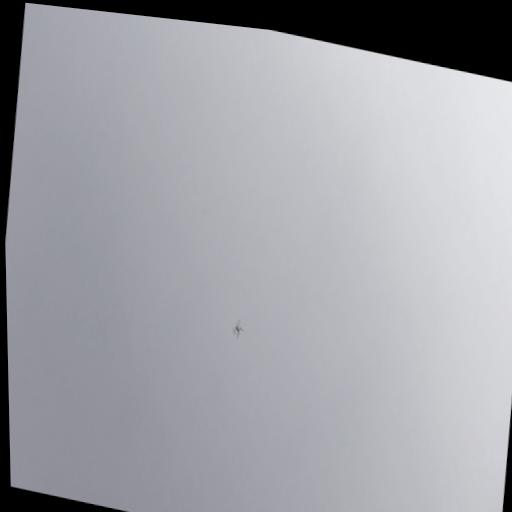drones: (230, 317, 245, 341)
